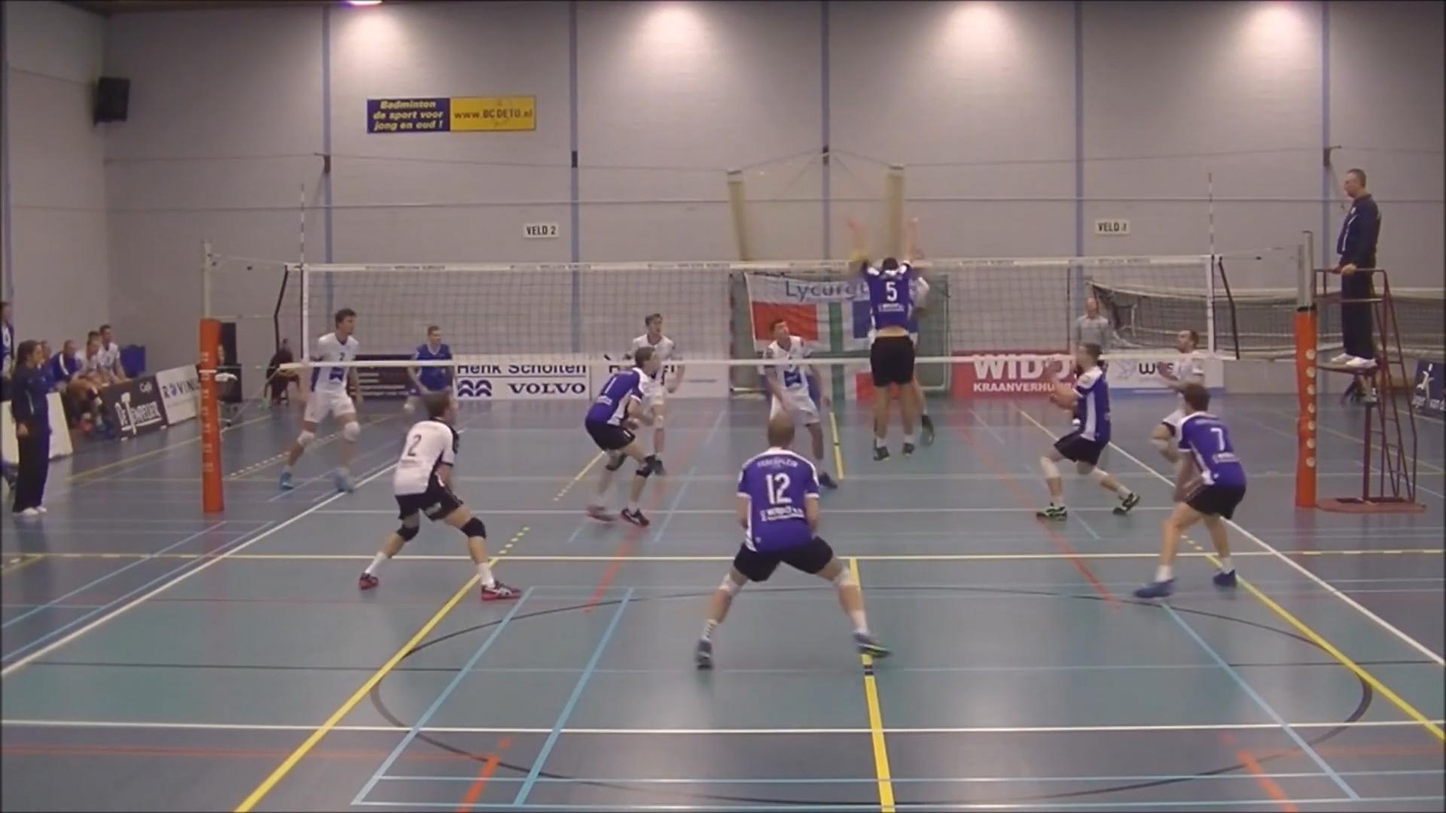Attack: (870, 221, 944, 443)
Block: (832, 208, 934, 462)
Player: (695, 416, 889, 668), (358, 391, 518, 601), (1134, 383, 1246, 598), (1036, 344, 1139, 519), (279, 309, 360, 492), (584, 347, 660, 526), (764, 318, 837, 489), (629, 313, 684, 474), (1158, 329, 1203, 391), (404, 365, 452, 414)
